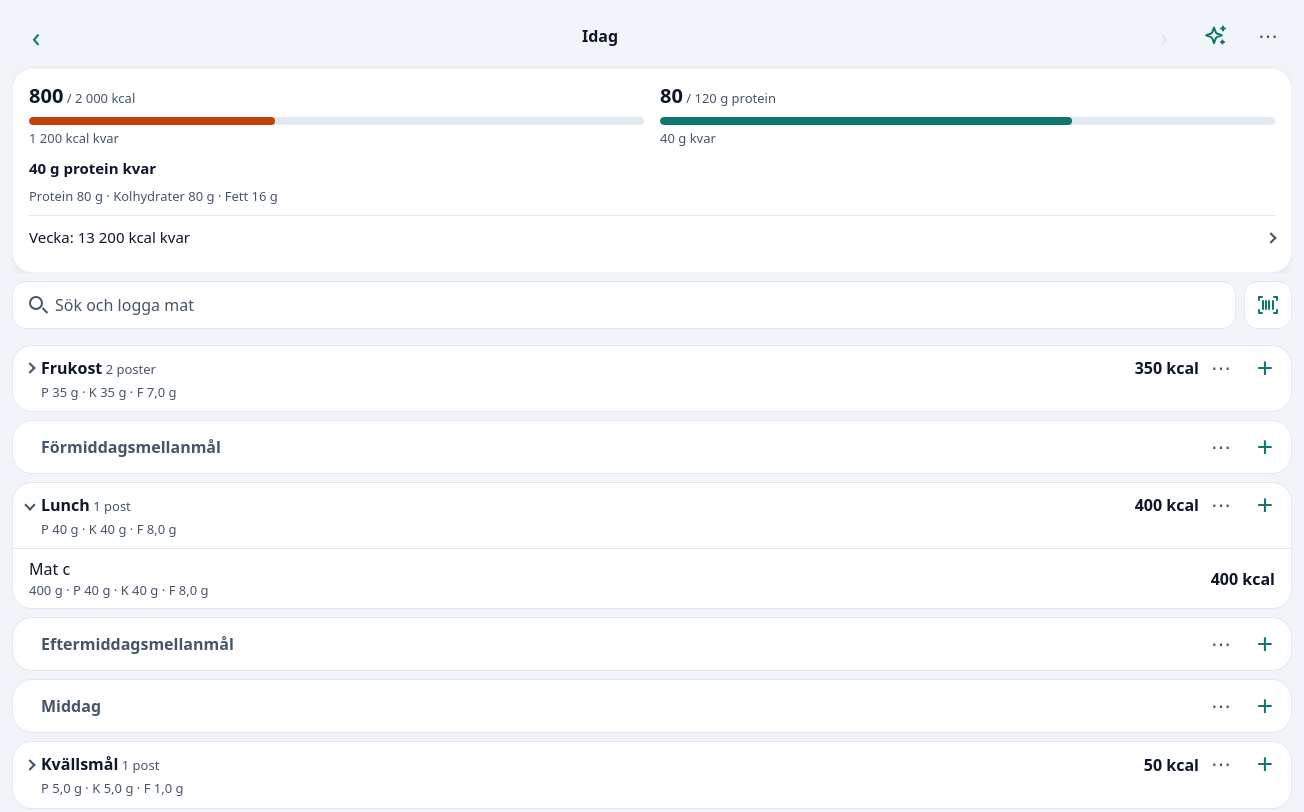
Test: Mat → Dag › meny, favoriter och analys › svep åt höger favoritmarkerar raden
Press the mouse on the element showing "Mat c 400 g · P 40 g · K 40 g · F 8,0 g 400 kcal" at (652, 579), box [13,549,1291,608]
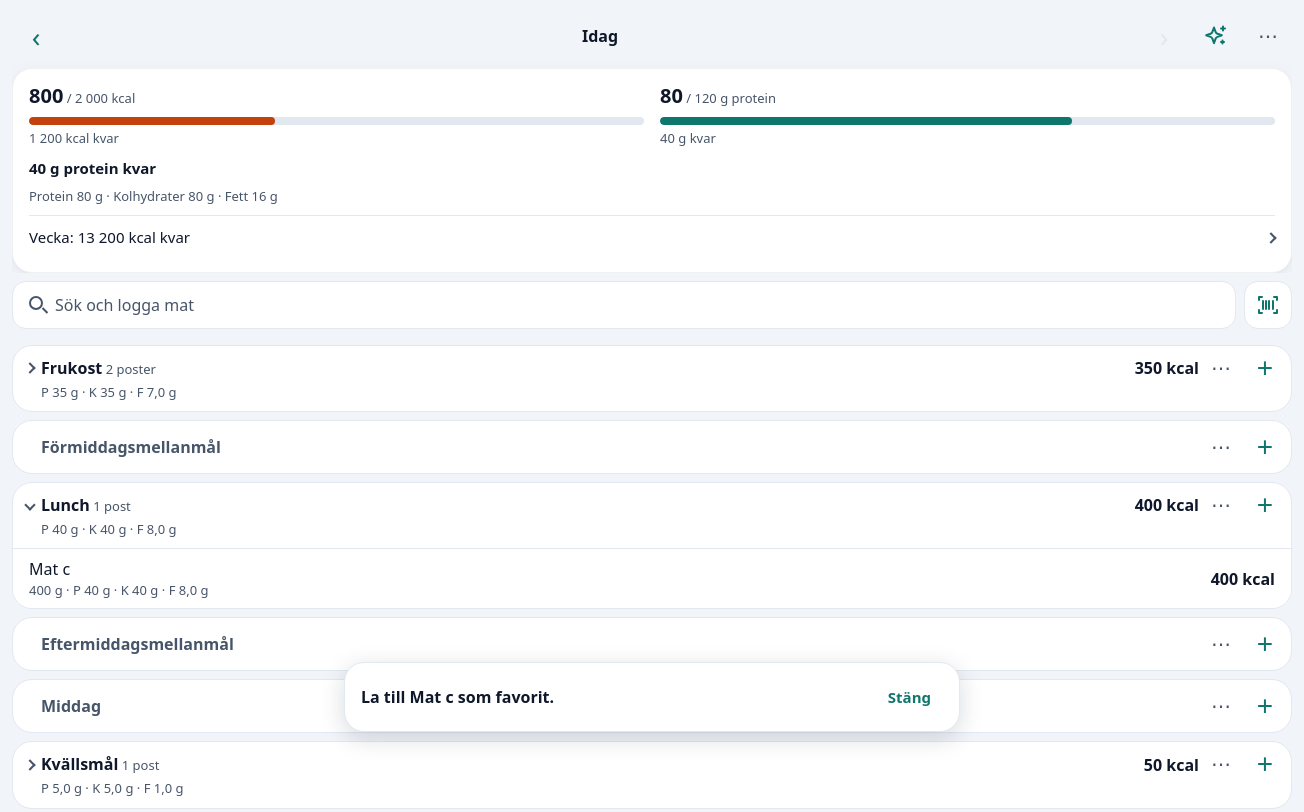
expect the element with test id "food-toast" shows "La till Mat c som favorit.": met, box [361,686,554,708]
